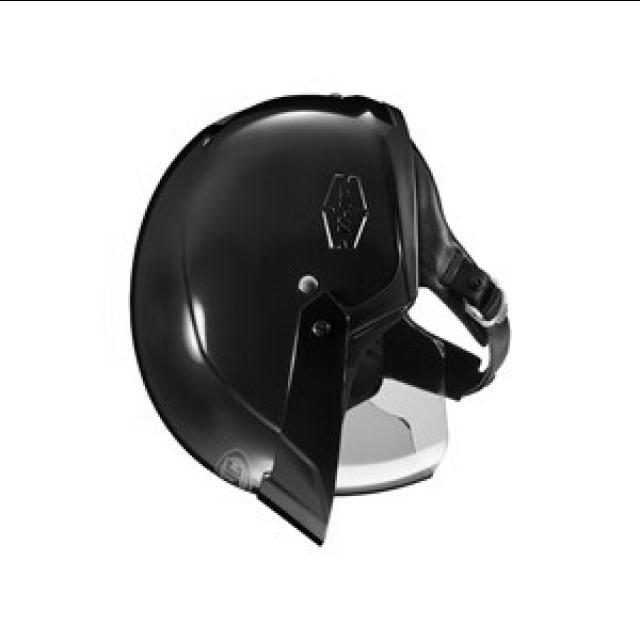construction helmet: (130, 92, 514, 546)
